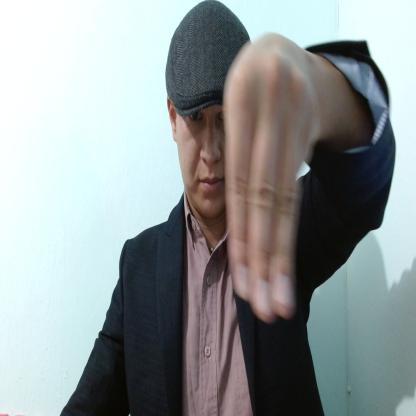M: (224, 31, 319, 323)
